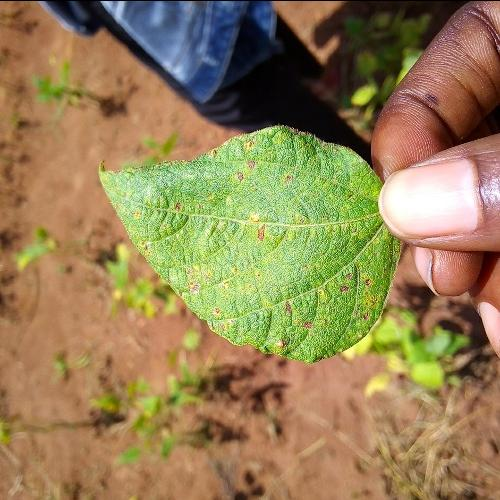hawar: (114, 189, 156, 254), (270, 293, 319, 346), (335, 265, 382, 298), (274, 123, 332, 149), (244, 217, 276, 246), (240, 155, 264, 188)
mozaik: (172, 169, 370, 315)
